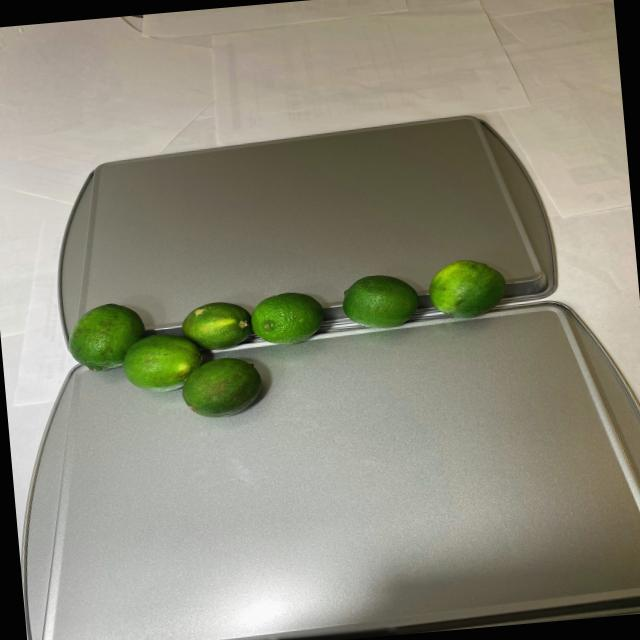lemon: (62, 252, 532, 428)
